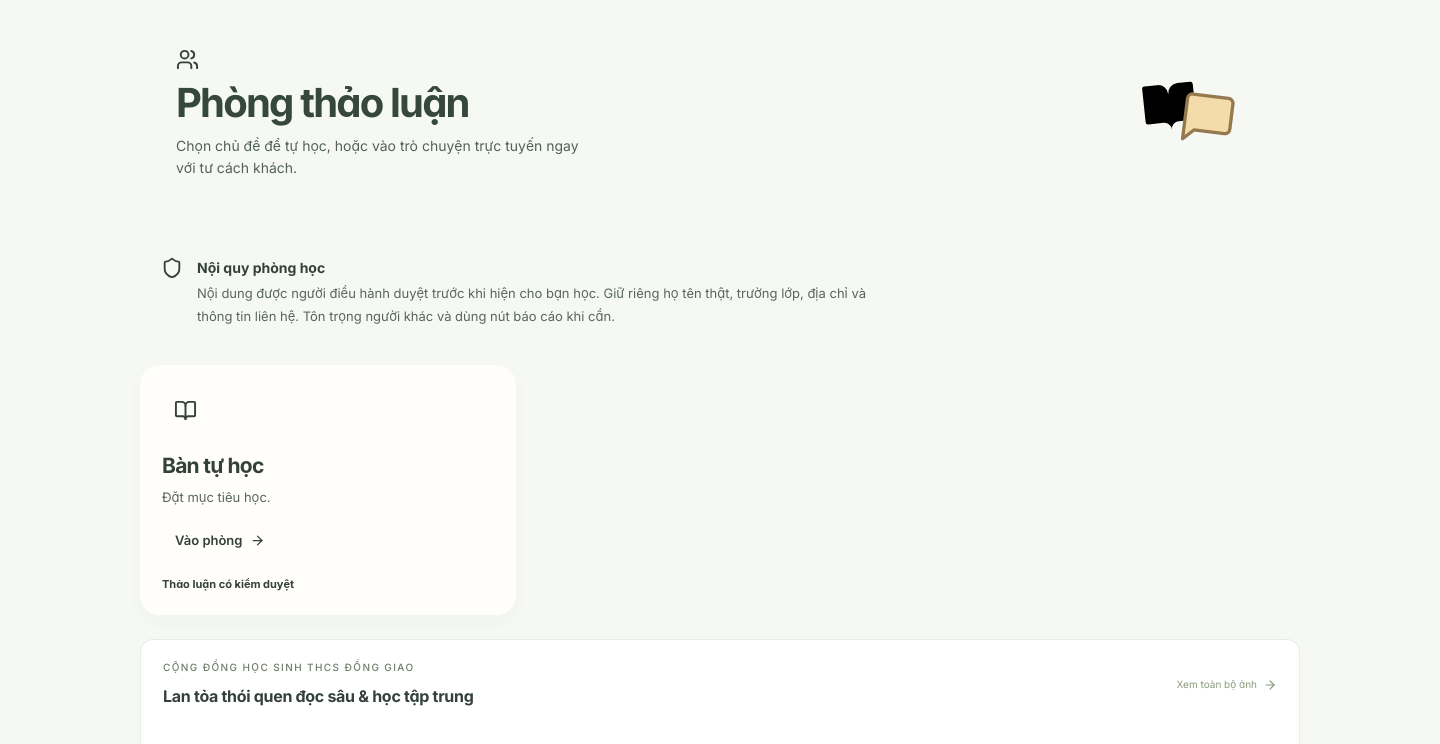
Test: discussion room entry › lets verified users enter the real moderated room
Click the button "Vào phòng" at (220, 540), box [162, 521, 278, 559]
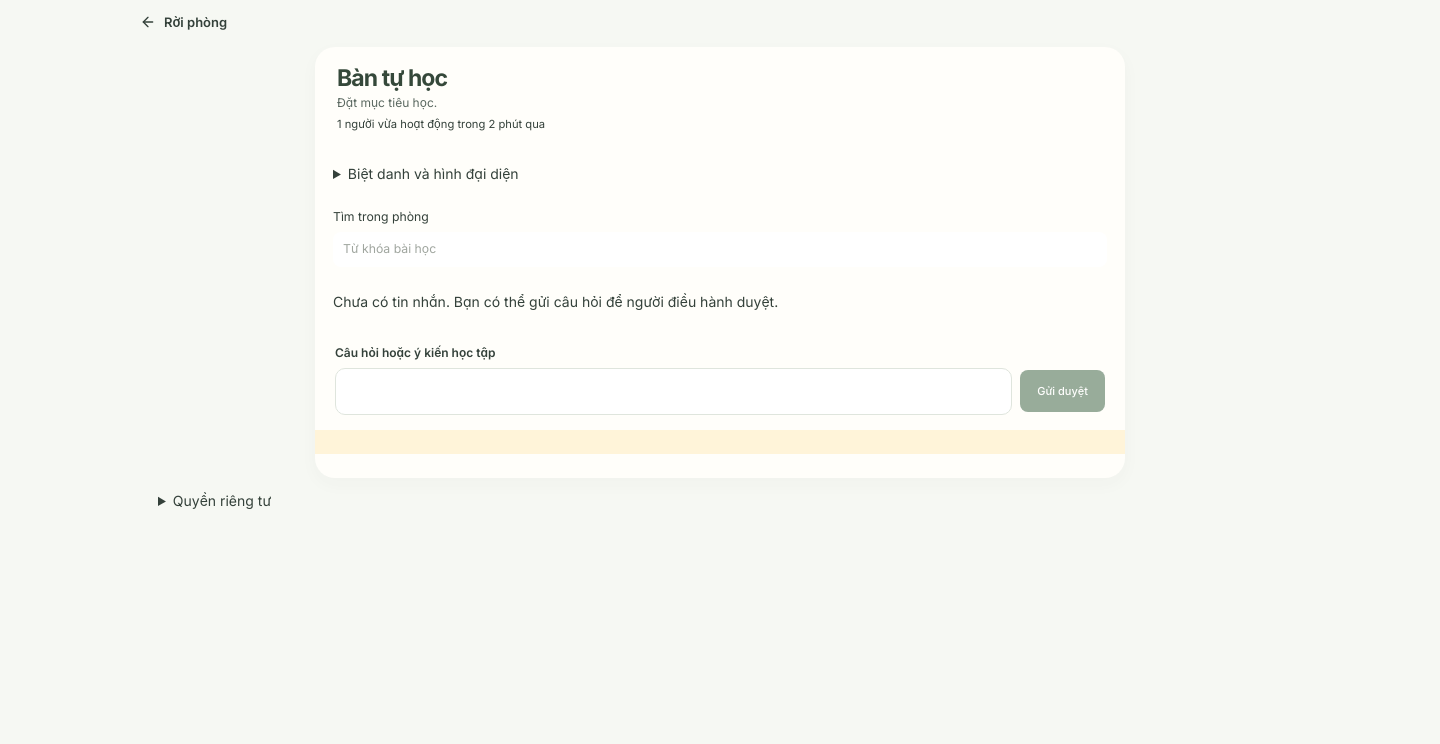
Now the text "1 người vừa hoạt động trong 2 phút qua" is shown, box [337, 117, 545, 131]
Now the field labelled "Câu hỏi hoặc ý kiến học tập" is shown, box [335, 368, 1012, 415]
